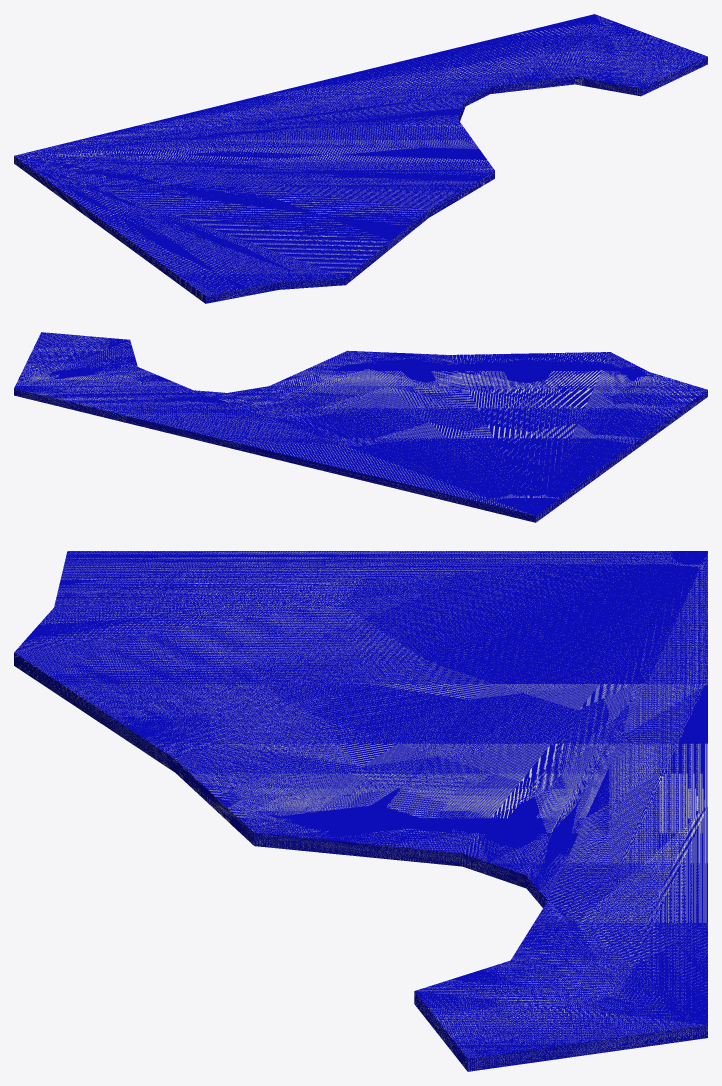
Rendered from original-5.obj.
The picture shows the model from 3 angles, top to bottom: view 1: azimuth 30°, elevation 25°; view 2: azimuth 150°, elevation 25°; view 3: azimuth 270°, elevation 25°; orthographic projection. The views are drawn at different scales.
Parts seen in each view (by area): view 1: mesh3/mesh3-geometry#mesh3-geometry; view 2: mesh3/mesh3-geometry#mesh3-geometry; view 3: mesh3/mesh3-geometry#mesh3-geometry.
Boxes of the visible parts, x1,y1,x2,y2 form: mesh3/mesh3-geometry#mesh3-geometry: (14,14,707,303); mesh3/mesh3-geometry#mesh3-geometry: (14,332,707,522); mesh3/mesh3-geometry#mesh3-geometry: (14,551,707,1071).
Bounding box in the file's own units: 0.0544 × 0.000658 × 0.0314.
